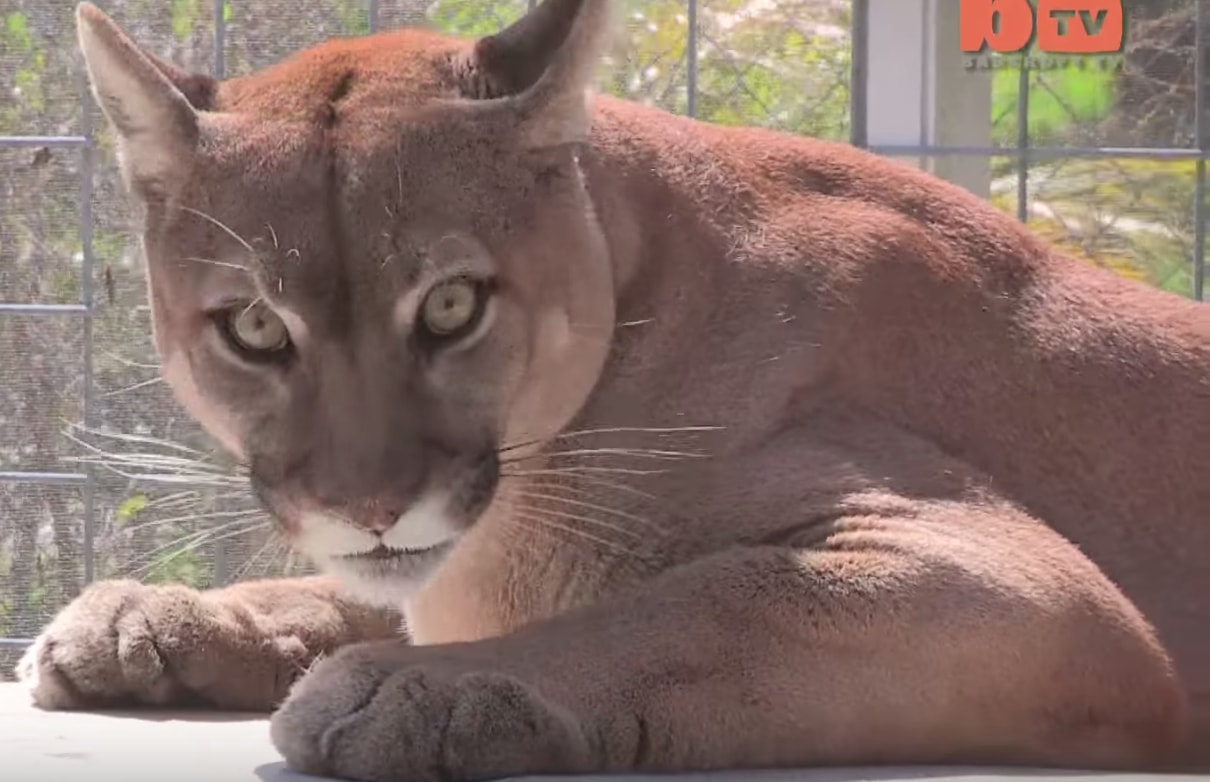Mountain Lion: (40, 18, 1191, 778)
